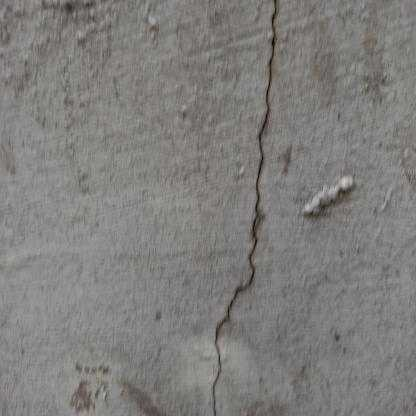crack: (213, 1, 276, 414)
